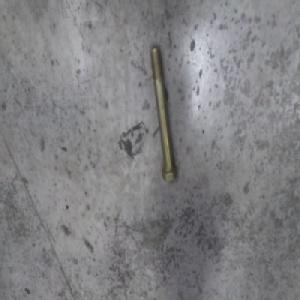Bolt: (142, 37, 174, 173)
